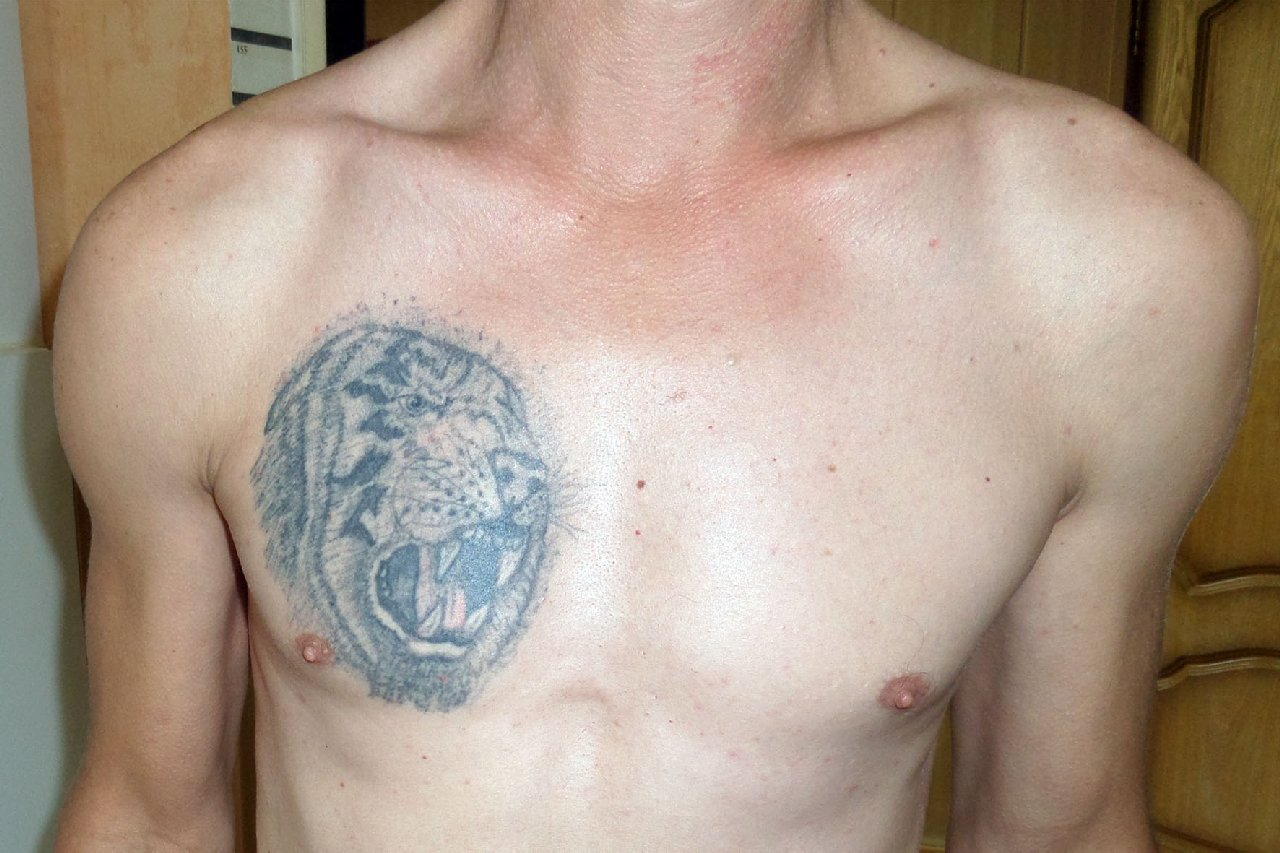tatu5_tigr: (147, 254, 643, 752)
